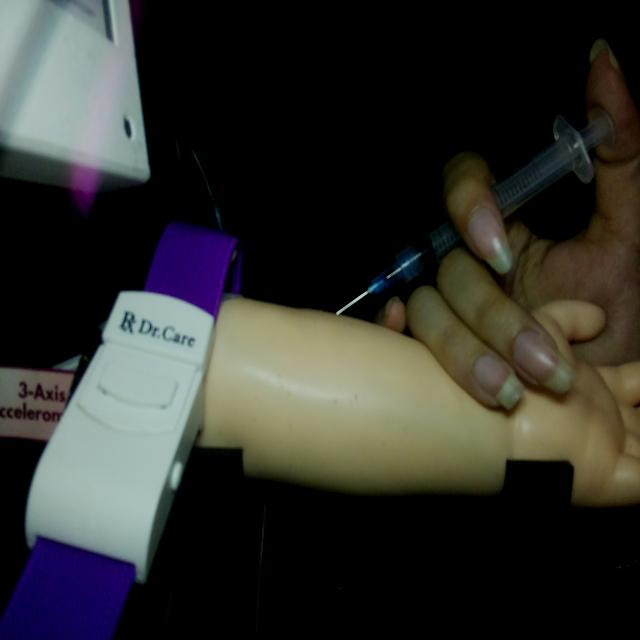22 degrees: (333, 103, 621, 316)
